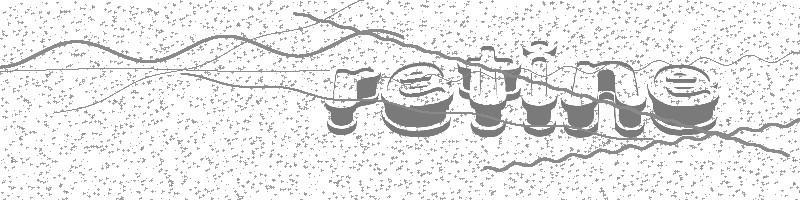e: (382, 63, 452, 136), (648, 65, 719, 134)
i: (522, 40, 558, 136)
n: (561, 61, 646, 137)
r: (325, 69, 379, 135)
t: (459, 46, 521, 138)
